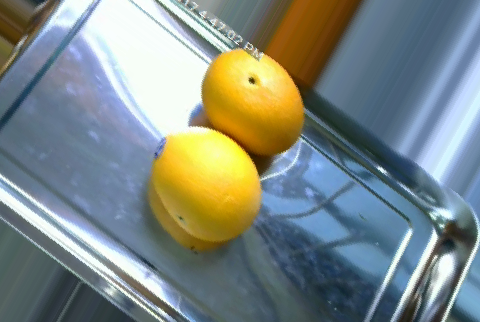Orange: (151, 126, 262, 242), (202, 47, 304, 154)
